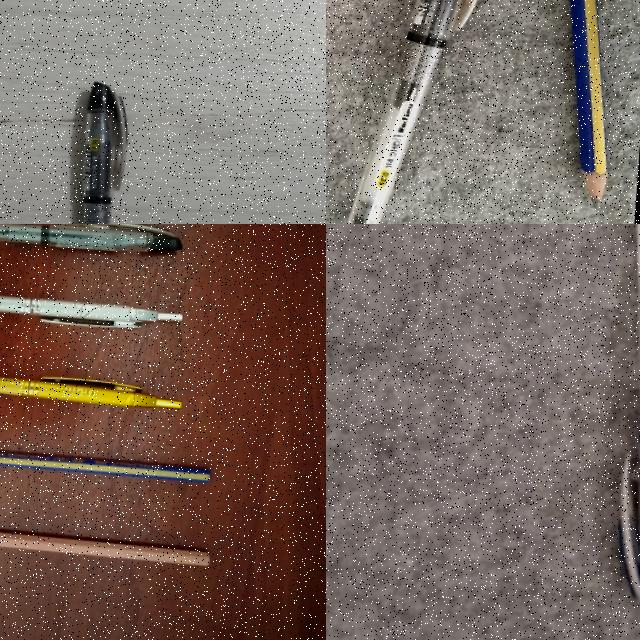pen: (348, 0, 505, 224), (82, 83, 126, 223), (0, 224, 183, 255)
pencil: (521, 0, 640, 204), (0, 514, 206, 563), (0, 436, 191, 479)
signature pen: (0, 281, 181, 333), (0, 364, 177, 409)
